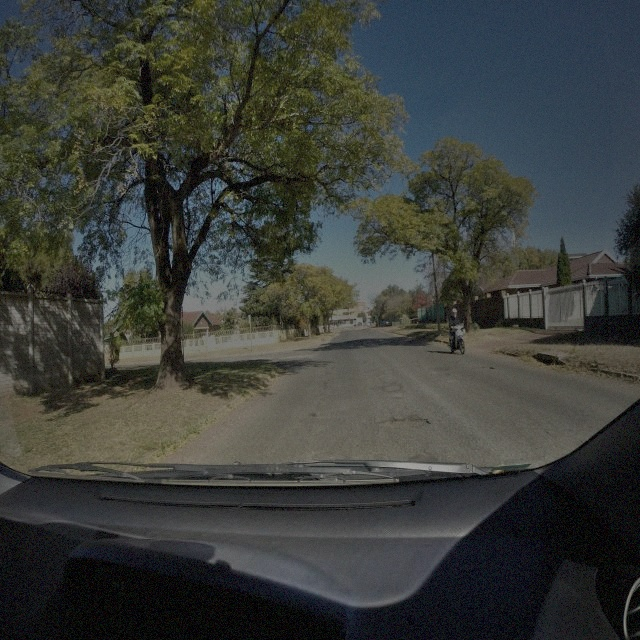pothole: (378, 417, 431, 429), (474, 363, 495, 372)
